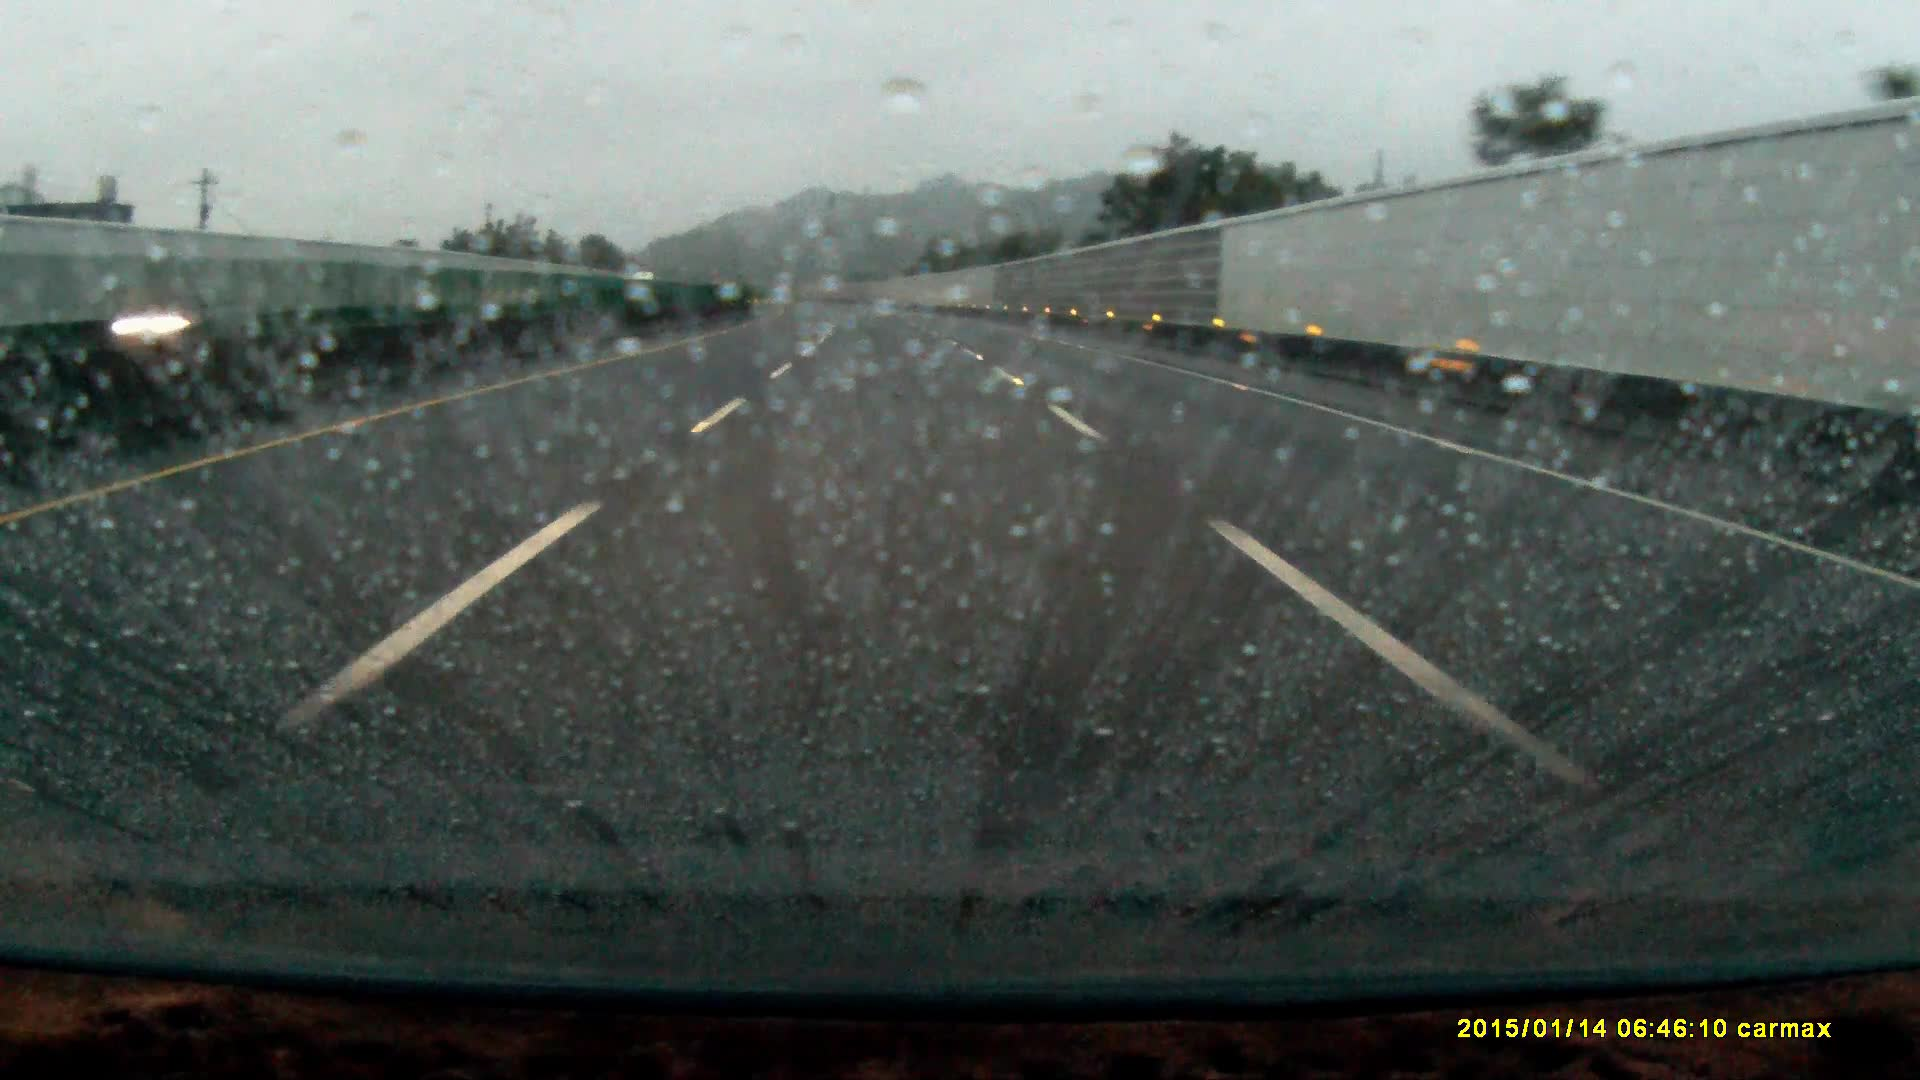vehicle: (133, 293, 204, 342)
